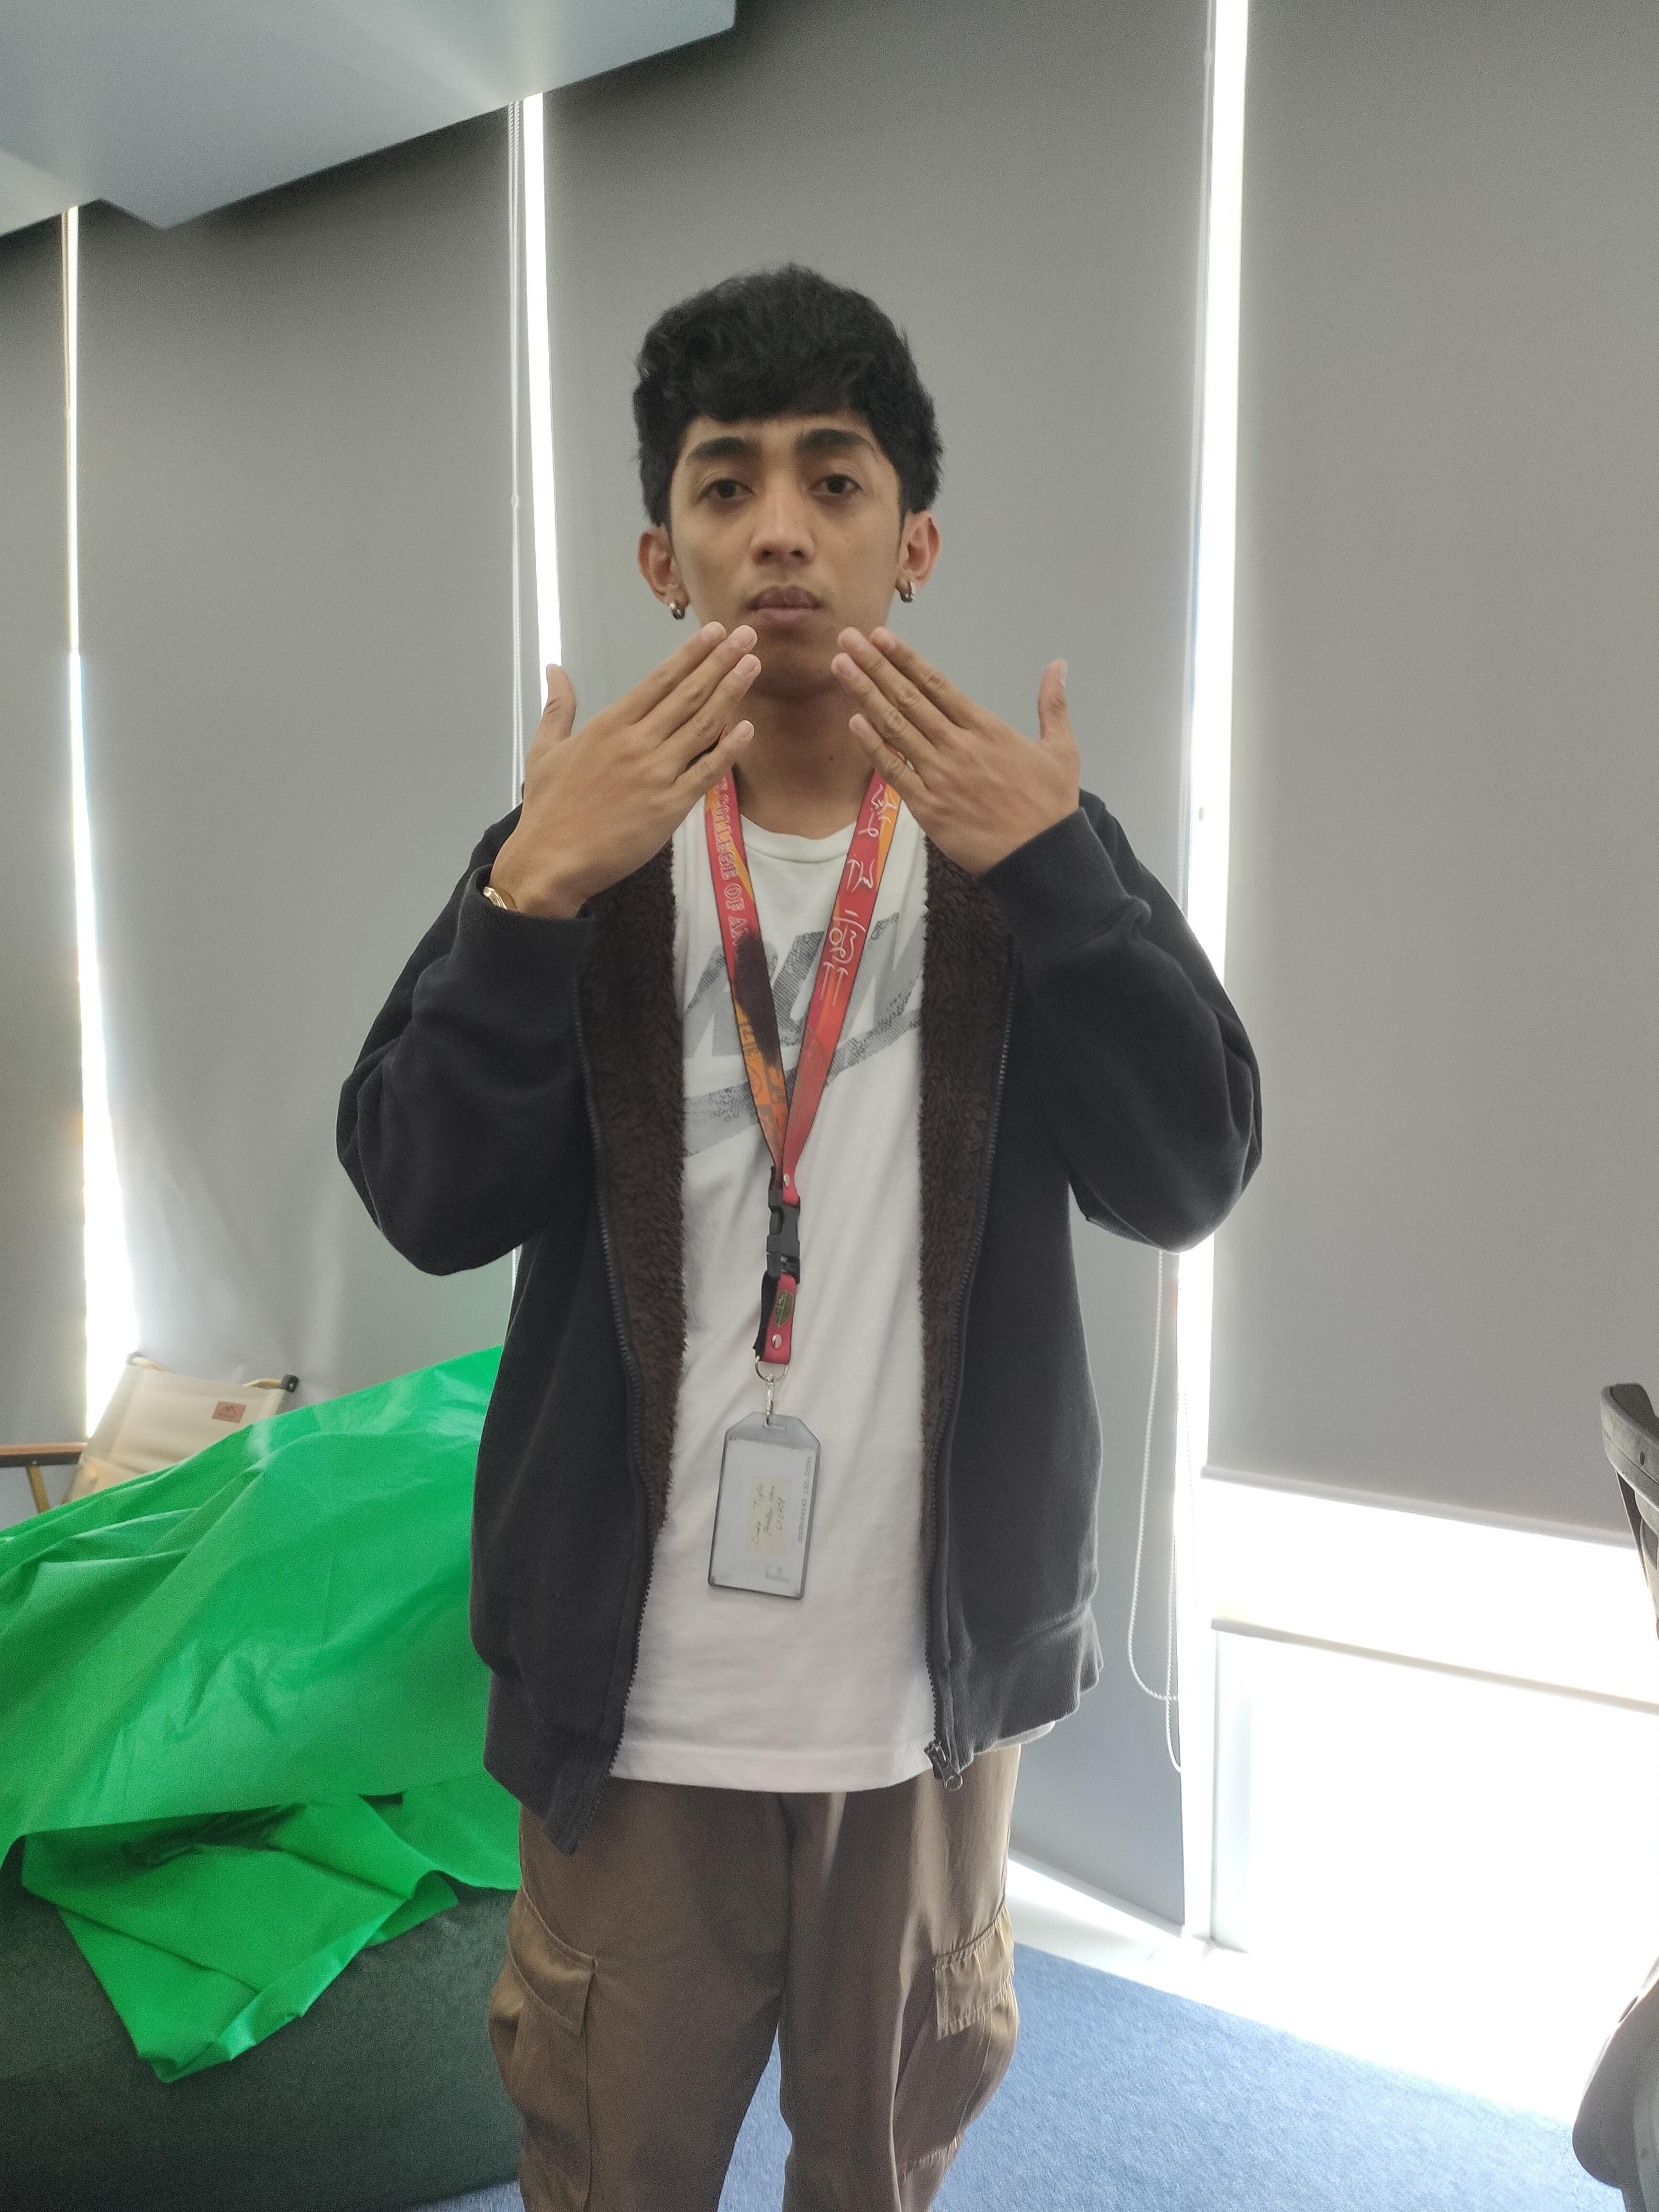Thankyou: (471, 594, 1103, 986)
